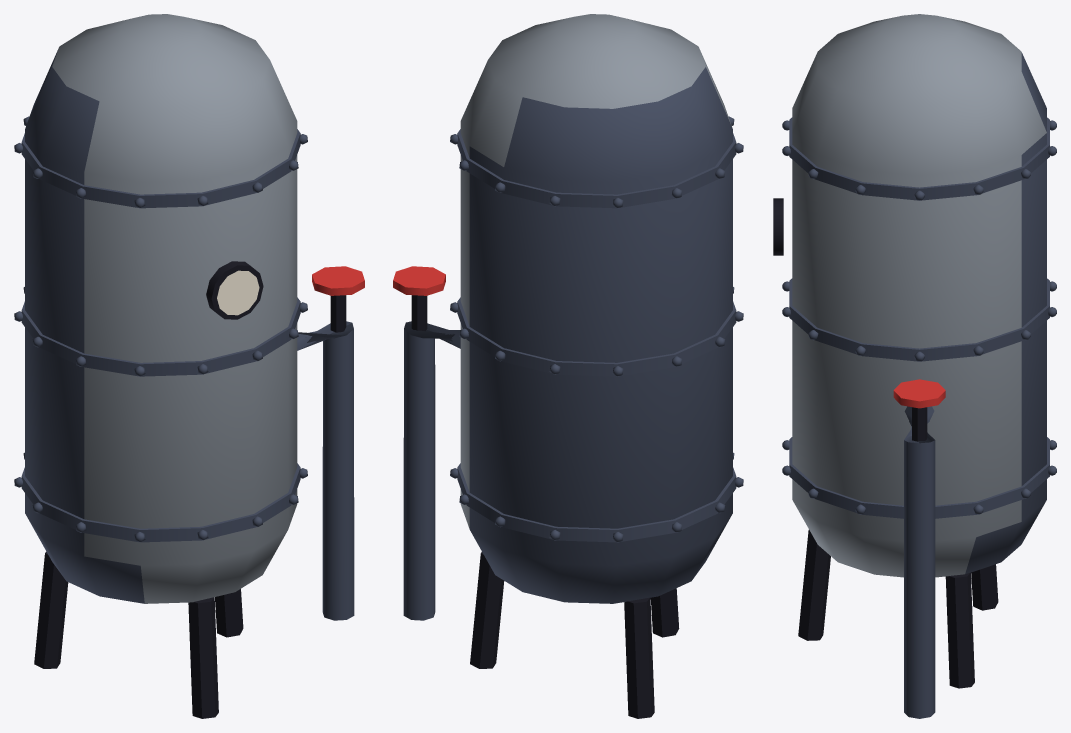
Rendered from Boiler.fbx.
3 views of the same model, side by side, from view 1: azimuth 30°, elevation 25°; view 2: azimuth 150°, elevation 25°; view 3: azimuth 270°, elevation 25° (orthographic). The views are drawn at different scales.
Parts seen in each view (by area): view 1: Boiler; view 2: Boiler; view 3: Boiler.
Part boxes in pixels (x1,y1,x2,y2): Boiler: (14,14,364,718); Boiler: (393,14,743,718); Boiler: (773,14,1056,718).
Bounding box in the file's own units: 1.39 × 2.6 × 1.09.
1 material, 1 textured.
